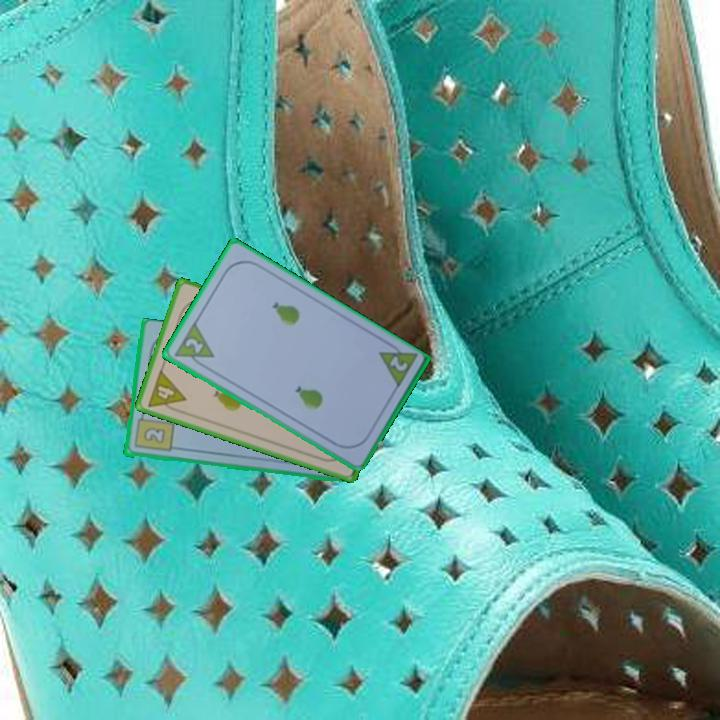2b: (131, 409, 176, 455)
2p: (181, 334, 206, 357), (385, 352, 410, 374)
4p: (143, 366, 189, 416)
